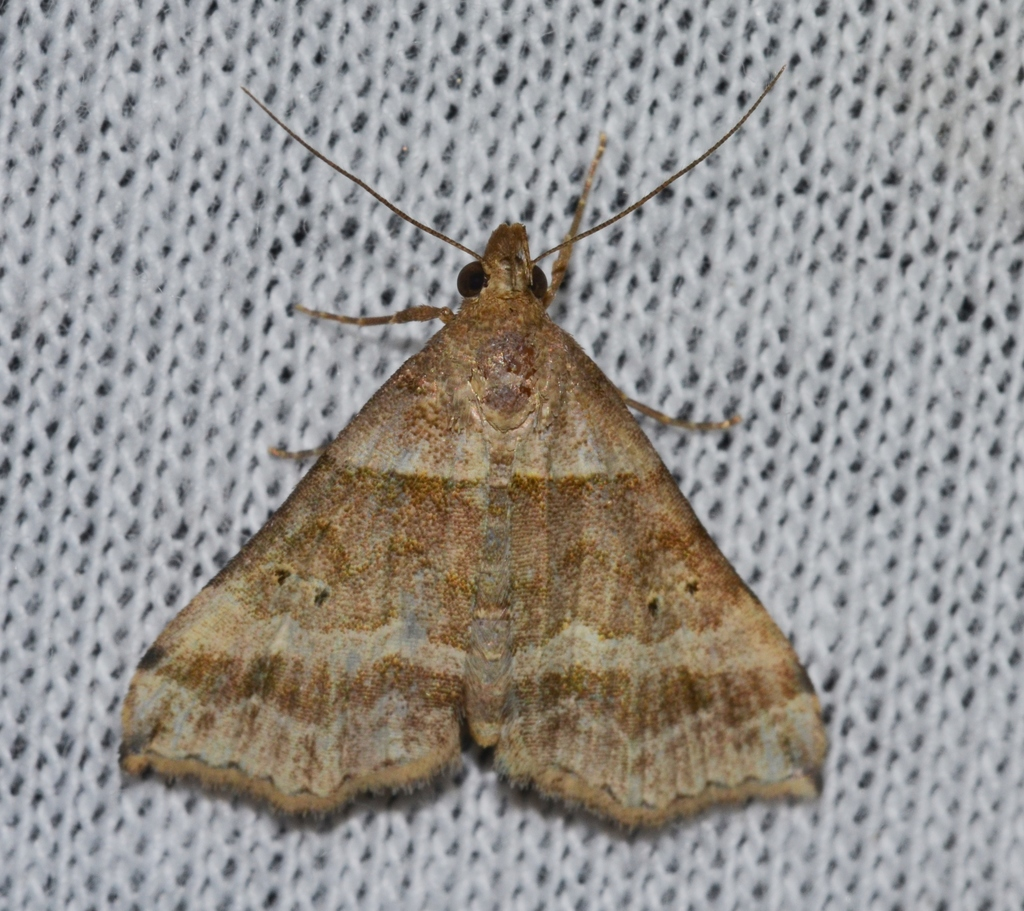Butterfly: (73, 201, 931, 839)
